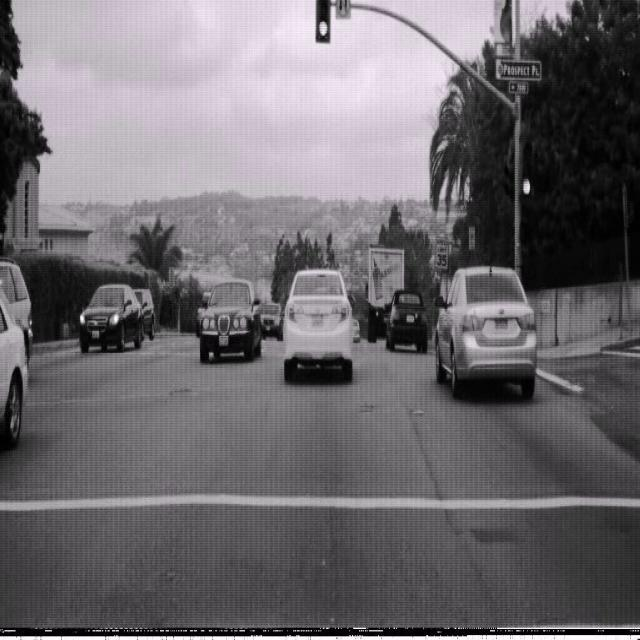speedLimit35: (434, 234, 450, 271)
